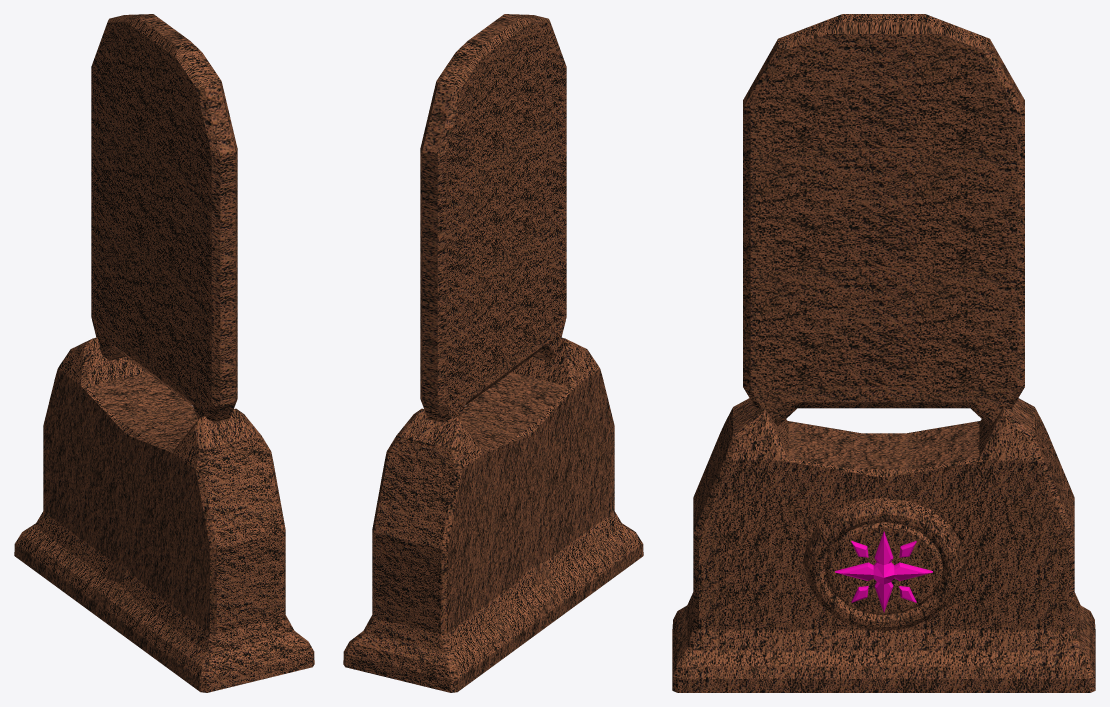
Rendered from LoreTab (Main RoomCrystal).fbx.
3 views of the same model, side by side, from view 1: azimuth 30°, elevation 25°; view 2: azimuth 150°, elevation 25°; view 3: azimuth 270°, elevation 25° (orthographic). The views are drawn at different scales.
Visible parts, largest first — view 1: Base, tablet; view 2: Base, tablet; view 3: tablet, Base, Crest.
Boxes of the visible parts, x1,y1,x2,y2 form: Base: (14,337,314,692); tablet: (91,14,237,422); Base: (343,337,643,692); tablet: (420,14,566,422); tablet: (743,14,1024,425); Base: (672,398,1095,692); Crest: (835,531,932,612).
Size of the model in its own units: 57 by 261 by 156.
3 materials, 2 textured.
